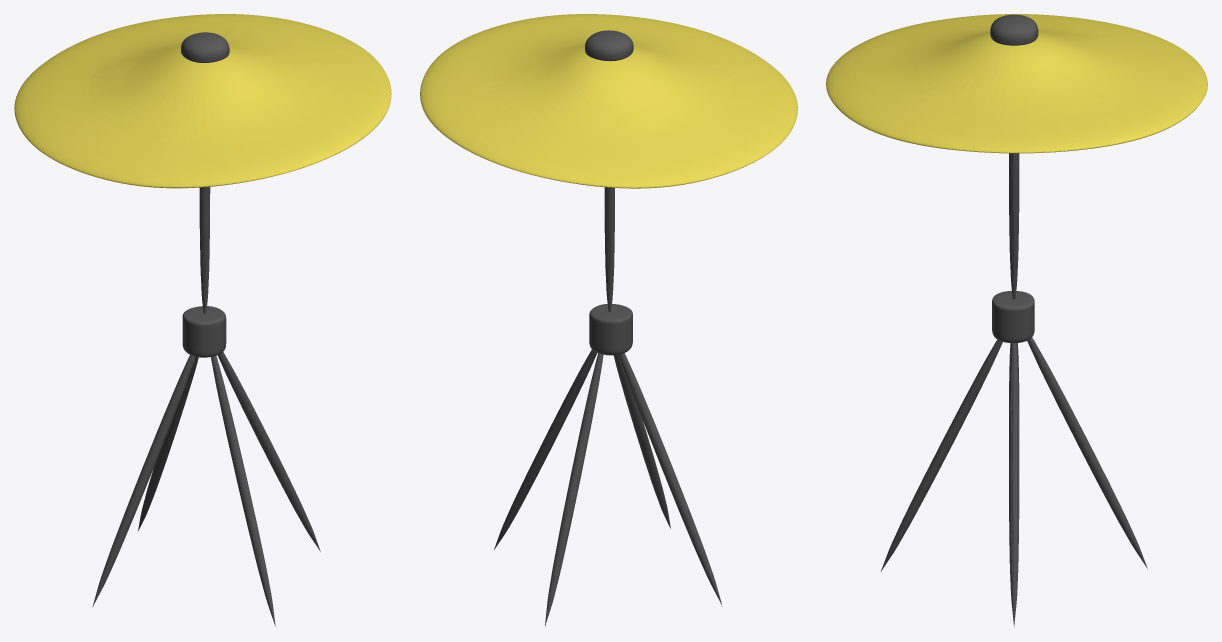
File: drum1.fbx
3 renders of one model, left to right at view 1: azimuth 30°, elevation 25°; view 2: azimuth 150°, elevation 25°; view 3: azimuth 270°, elevation 25°, orthographic.
Visible parts, largest first — view 1: Cube, Cylinder.004, Cylinder.002, Cylinder.001, Cube.002, Cylinder.003, Cube.001, Cylinder; view 2: Cube, Cylinder.003, Cylinder.002, Cylinder.001, Cube.002, Cylinder.004, Cube.001, Cylinder; view 3: Cube, Cylinder.001, Cylinder.004, Cylinder.003, Cube.002, Cylinder, Cube.001.
Part boxes in pixels (x1,y1,x2,y2): Cube: (14, 14, 391, 188); Cylinder.004: (211, 356, 275, 626); Cylinder.002: (92, 355, 195, 607); Cylinder.001: (217, 352, 320, 551); Cube.002: (182, 306, 226, 357); Cylinder.003: (138, 357, 198, 531); Cube.001: (181, 32, 229, 62); Cylinder: (199, 187, 210, 313); Cube: (420, 14, 797, 188); Cylinder.003: (545, 353, 603, 626); Cylinder.002: (619, 353, 722, 605); Cylinder.001: (494, 349, 597, 549); Cube.002: (589, 304, 632, 355); Cylinder.004: (613, 355, 670, 528); Cube.001: (585, 30, 633, 61); Cylinder: (604, 187, 614, 311); Cube: (826, 14, 1207, 153); Cylinder.001: (1009, 343, 1019, 627); Cylinder.004: (880, 339, 1002, 571); Cylinder.003: (1027, 337, 1147, 568); Cube.002: (992, 291, 1034, 343); Cylinder: (1009, 153, 1019, 299); Cube.001: (990, 14, 1038, 45).
Size of the model in its own units: 246 by 395 by 248.
